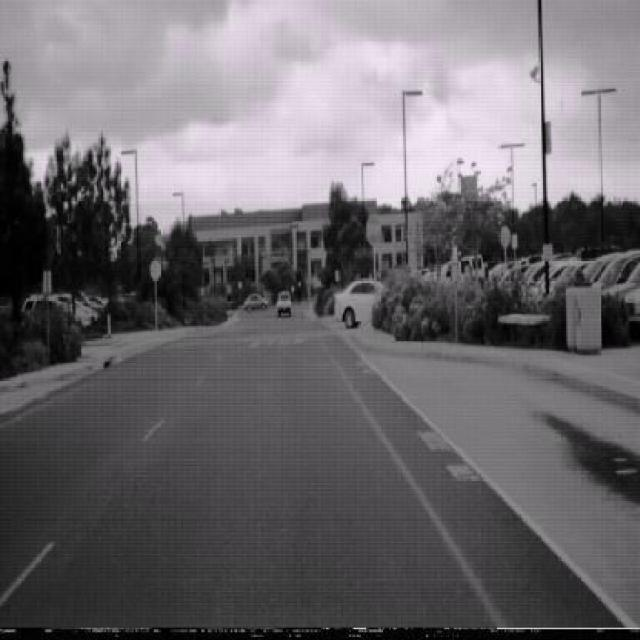stop: (366, 212, 382, 247)
